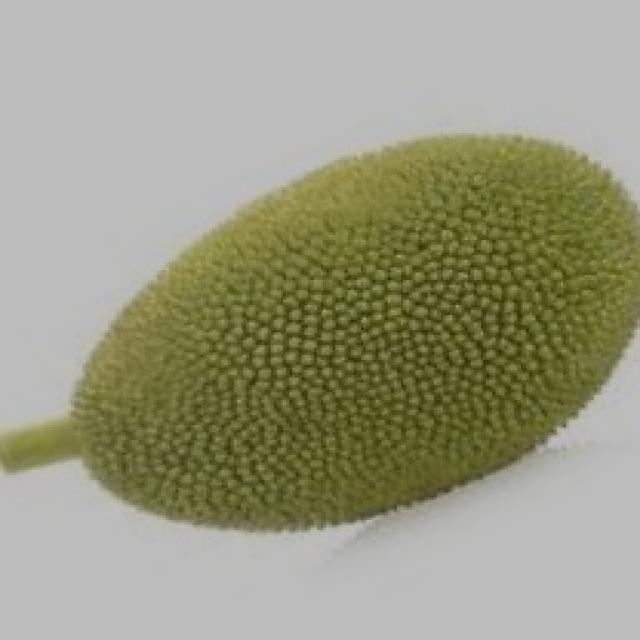Fruit: (43, 162, 434, 562), (243, 115, 640, 497)
